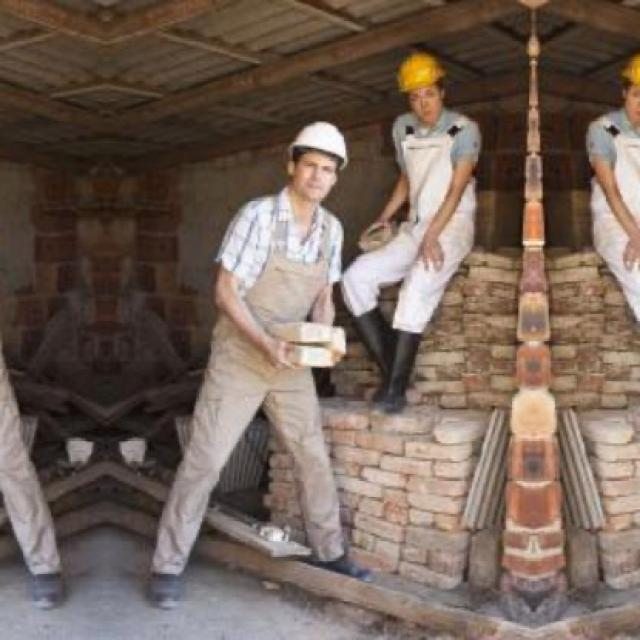helmet: (281, 111, 353, 206), (397, 49, 448, 122), (618, 47, 640, 121)
